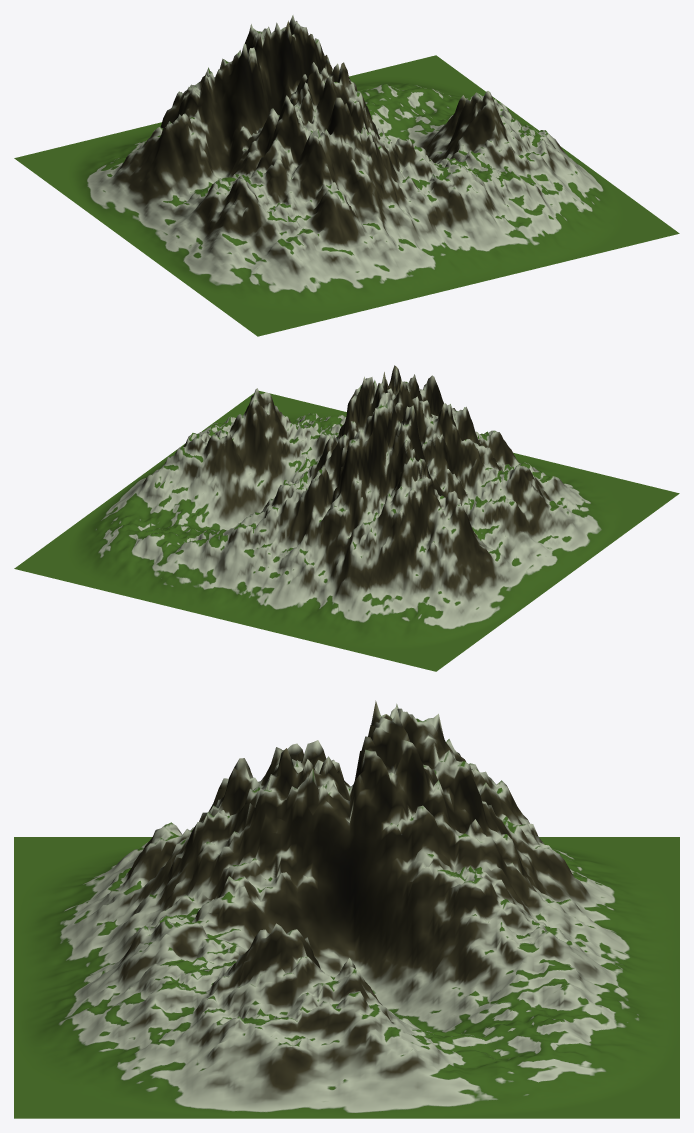
Rendered from tile0016.gltf.
3 renders of one model, top to bottom at view 1: azimuth 30°, elevation 25°; view 2: azimuth 150°, elevation 25°; view 3: azimuth 270°, elevation 25°, orthographic. The views are drawn at different scales.
Visible parts, largest first — view 1: Landscape.001; view 2: Landscape.001; view 3: Landscape.001.
Boxes of the visible parts, box(x1,y1,x2,y2) form: Landscape.001: box(14, 15, 679, 336); Landscape.001: box(14, 365, 679, 671); Landscape.001: box(14, 700, 679, 1118).
Size of the model in its own units: 2 by 0.8366 by 2.
1 material, 1 textured.
